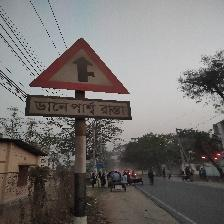Side-road-right: (27, 38, 133, 120)
